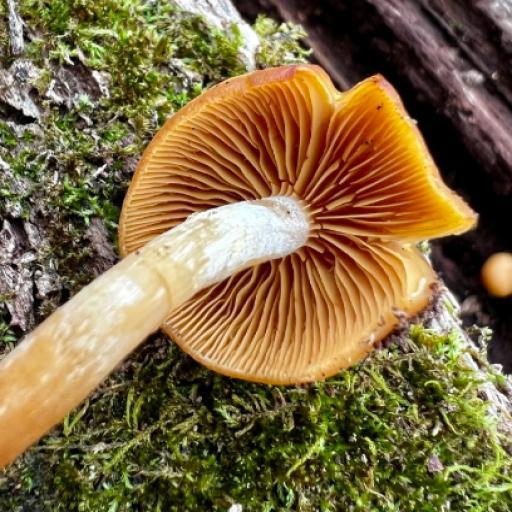mushroom: (67, 56, 476, 435)
